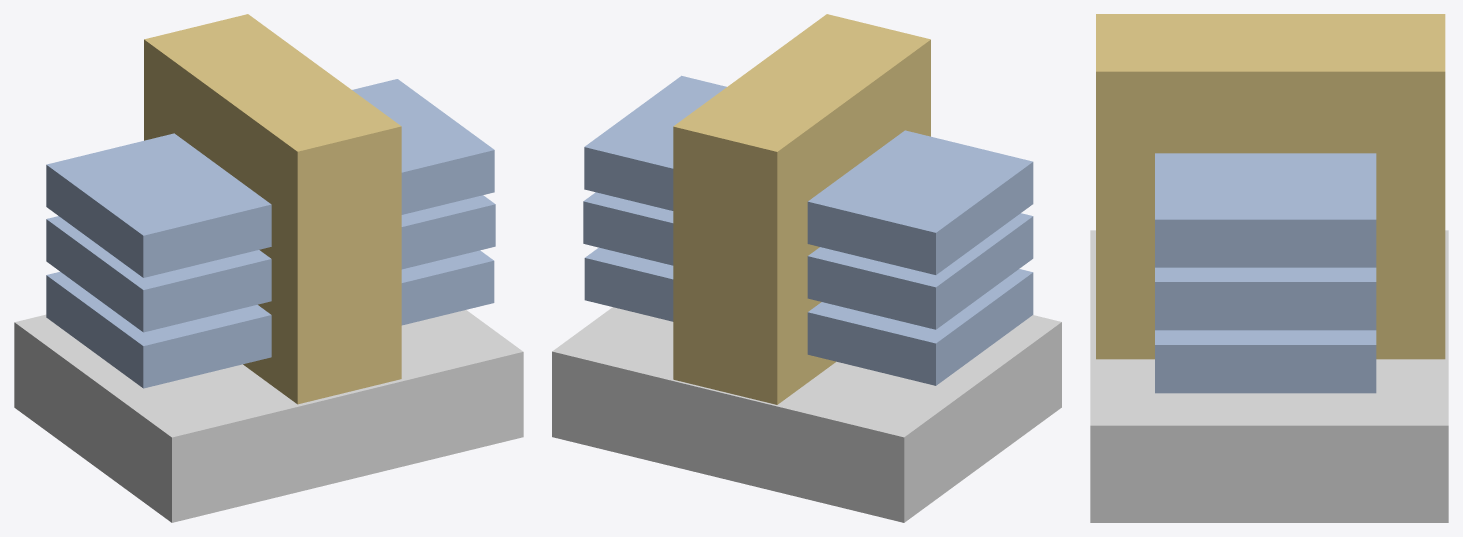
File: form_gaa_structure.glb
3 views of the same model, side by side, from view 1: azimuth 30°, elevation 25°; view 2: azimuth 150°, elevation 25°; view 3: azimuth 270°, elevation 25° (orthographic). The views are drawn at different scales.
Parts seen in each view (by area): view 1: Cube, Cube.012, Cube.011, Cube.001, Cube.002, Cube.005, Cube.007, Cube.006; view 2: Cube, Cube.012, Cube.011, Cube.001, Cube.002, Cube.005, Cube.007, Cube.006; view 3: Cube.012, Cube, Cube.005, Cube.007, Cube.006.
Boxes of the visible parts, x1,y1,x2,y2 form: Cube: (14, 310, 523, 522); Cube.012: (144, 14, 401, 404); Cube.011: (46, 133, 271, 277); Cube.001: (46, 271, 271, 388); Cube.002: (46, 216, 271, 332); Cube.005: (352, 79, 494, 214); Cube.007: (401, 250, 494, 325); Cube.006: (401, 195, 495, 269); Cube: (552, 307, 1061, 522); Cube.012: (673, 14, 930, 404); Cube.011: (807, 130, 1033, 274); Cube.001: (807, 269, 1033, 385); Cube.002: (807, 213, 1033, 329); Cube.005: (584, 75, 726, 210); Cube.007: (584, 247, 673, 321); Cube.006: (583, 192, 673, 265); Cube.012: (1096, 14, 1445, 359); Cube: (1090, 230, 1448, 522); Cube.005: (1155, 153, 1376, 267); Cube.007: (1155, 330, 1376, 393); Cube.006: (1155, 267, 1376, 330).
Size of the model in its own units: 5.36 by 4.92 by 4.16.
